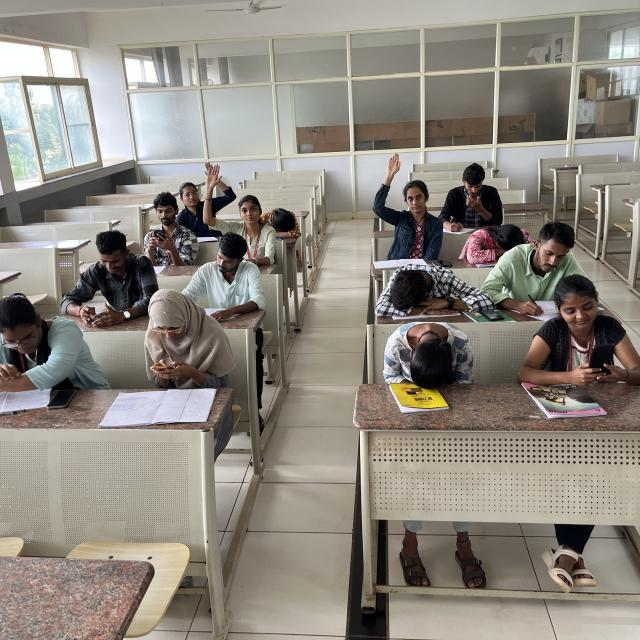Hand Rising: (354, 138, 454, 258), (203, 155, 278, 260), (164, 156, 232, 230)
Reading: (189, 222, 269, 328)
Sleeping: (365, 306, 485, 396), (366, 251, 490, 320), (448, 213, 537, 268), (266, 183, 309, 256)
Using Phone: (517, 265, 640, 391), (34, 228, 160, 328), (140, 279, 233, 397), (146, 201, 201, 278)
Writing: (479, 222, 585, 318), (433, 138, 506, 238)
